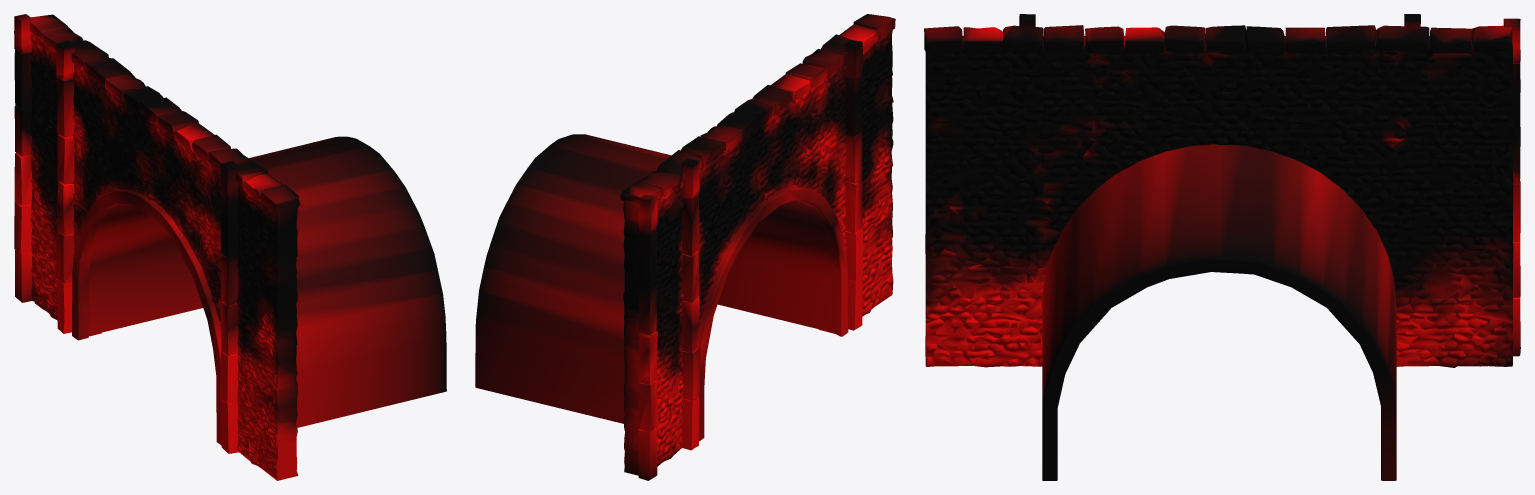
The model's file is SM_ArchWall_01.fbx.
3 views of the same model, side by side, from view 1: azimuth 30°, elevation 25°; view 2: azimuth 150°, elevation 25°; view 3: azimuth 270°, elevation 25° (orthographic). The views are drawn at different scales.
Visible parts, largest first — view 1: SM_ArchWall_01_LOD0; view 2: SM_ArchWall_01_LOD0; view 3: SM_ArchWall_01_LOD0.
Boxes of the visible parts, <box> form: SM_ArchWall_01_LOD0: <box>14,14,446,480</box>; SM_ArchWall_01_LOD0: <box>475,14,895,480</box>; SM_ArchWall_01_LOD0: <box>924,14,1520,480</box>.
Bounding box in the file's own units: 1060 × 2031 × 1266.
